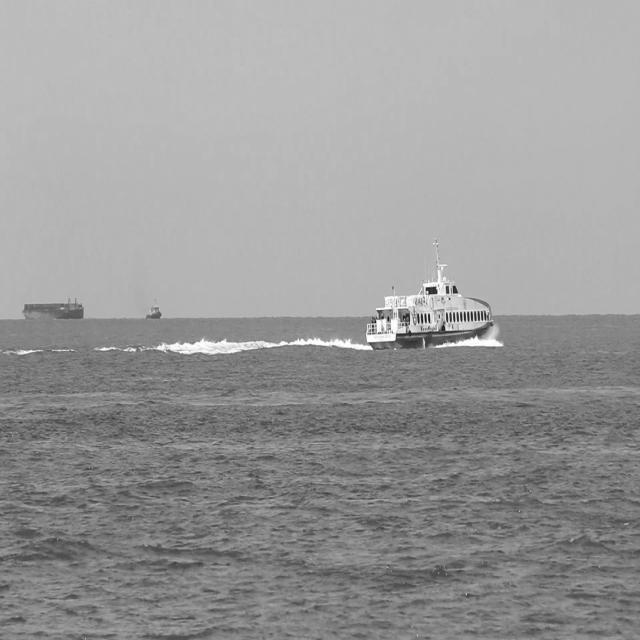ship: (361, 228, 498, 354), (20, 292, 86, 322), (142, 294, 164, 322)
